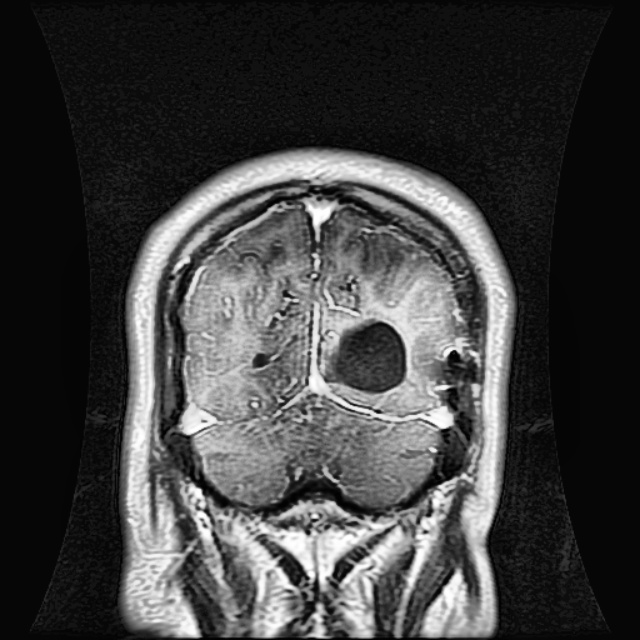Meningioma: (335, 320, 409, 389)
